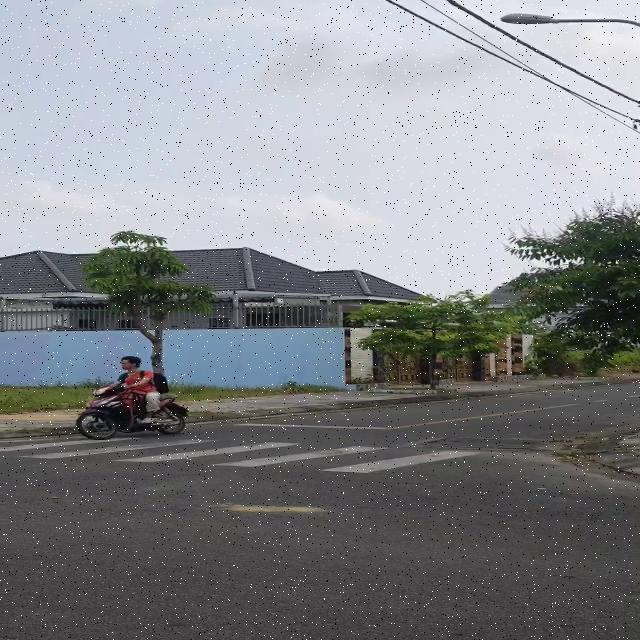no_helmet: (119, 353, 142, 372)
